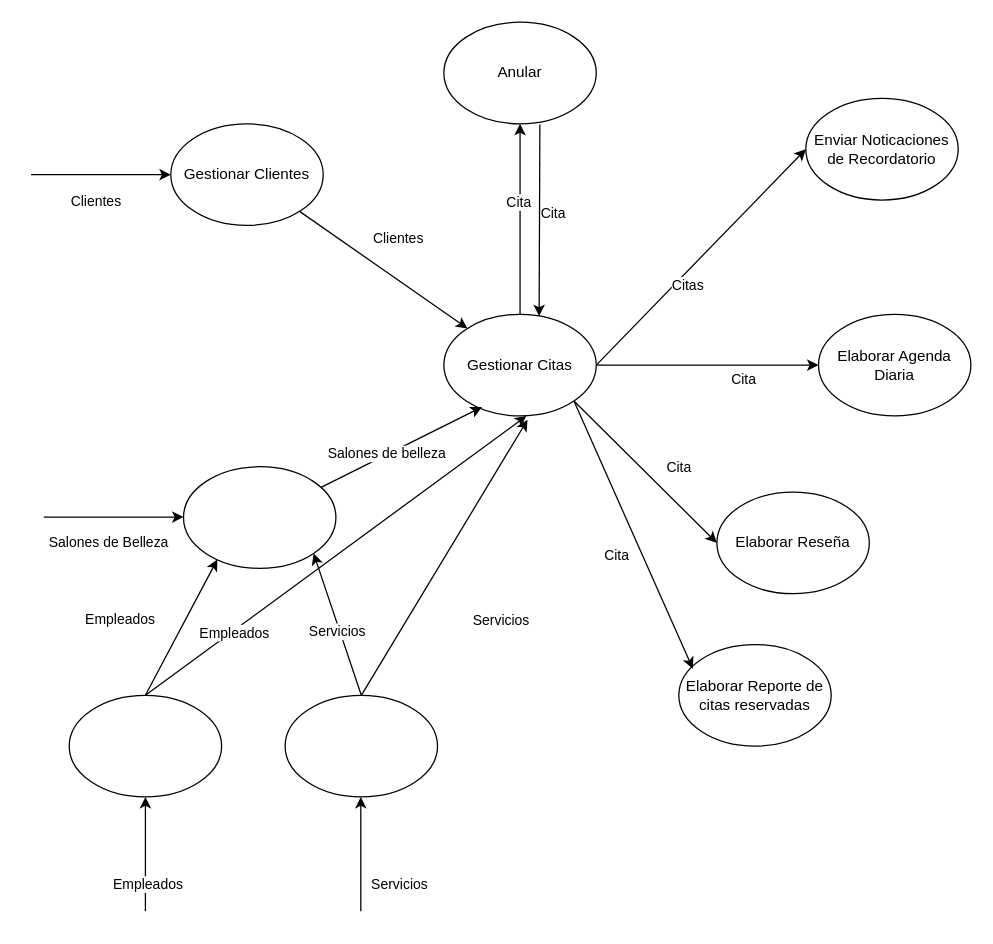
The diagram is 993 pixels wide and 944 high, and some of its shapes have lost their labels. The shapes that lost their labels are listed below. From the top down, each one's box as (x1, y1, x2, y2) in pixels, then its label:
(182, 465, 336, 568): Gestionar Salones de Belleza
(68, 694, 222, 797): Gestionar Empleados
(284, 694, 438, 797): Gestionar Servicios
